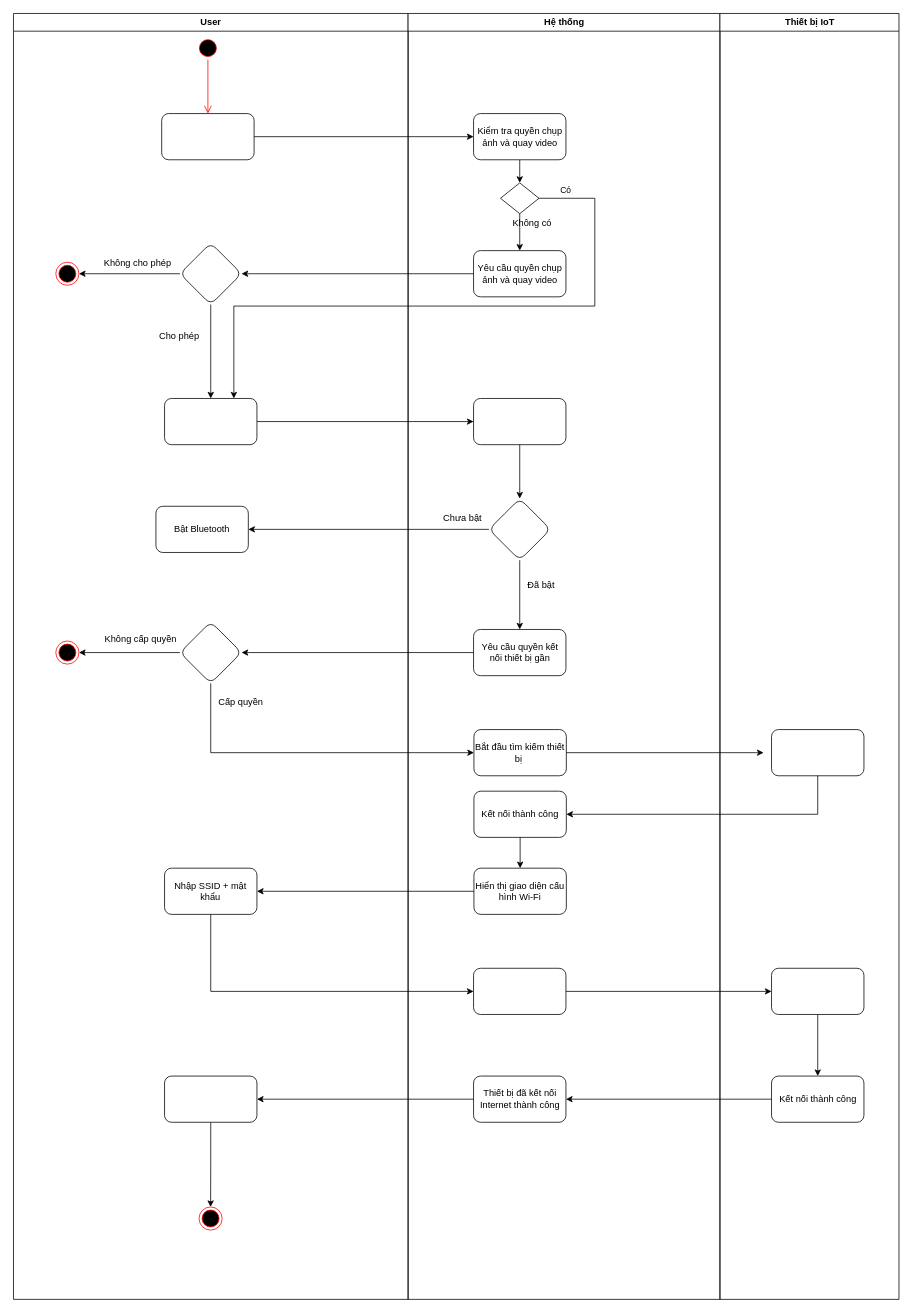
This 912x1313 diagram has some shape labels left out. The shapes that lost their labels are listed below. From the top down, each one's centre as x and y in pixels, then its label:
the point at 207,136: Nút "Thêm thiết bị" được bấm
the point at 210,421: Quét mã QR trên thiết bị hoặc nhập mã trên thiết bị
the point at 519,421: Bluetooth đã bật?
the point at 817,752: Chấp nhận kết nối
the point at 519,991: Gửi thông tin Wi-Fi
the point at 817,991: Kết nối Wi-Fi
the point at 210,1098: Xác nhận
